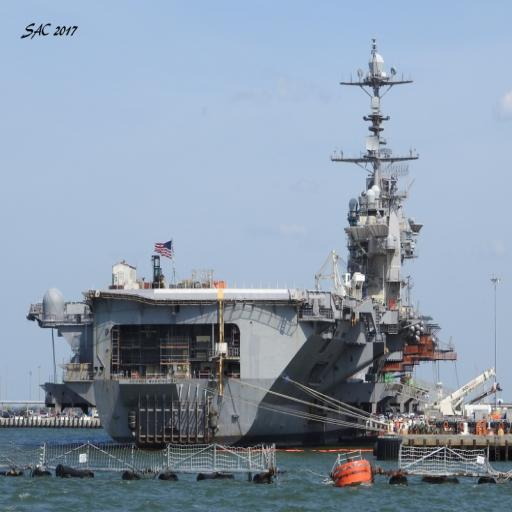Portanaves: (27, 25, 445, 450)
